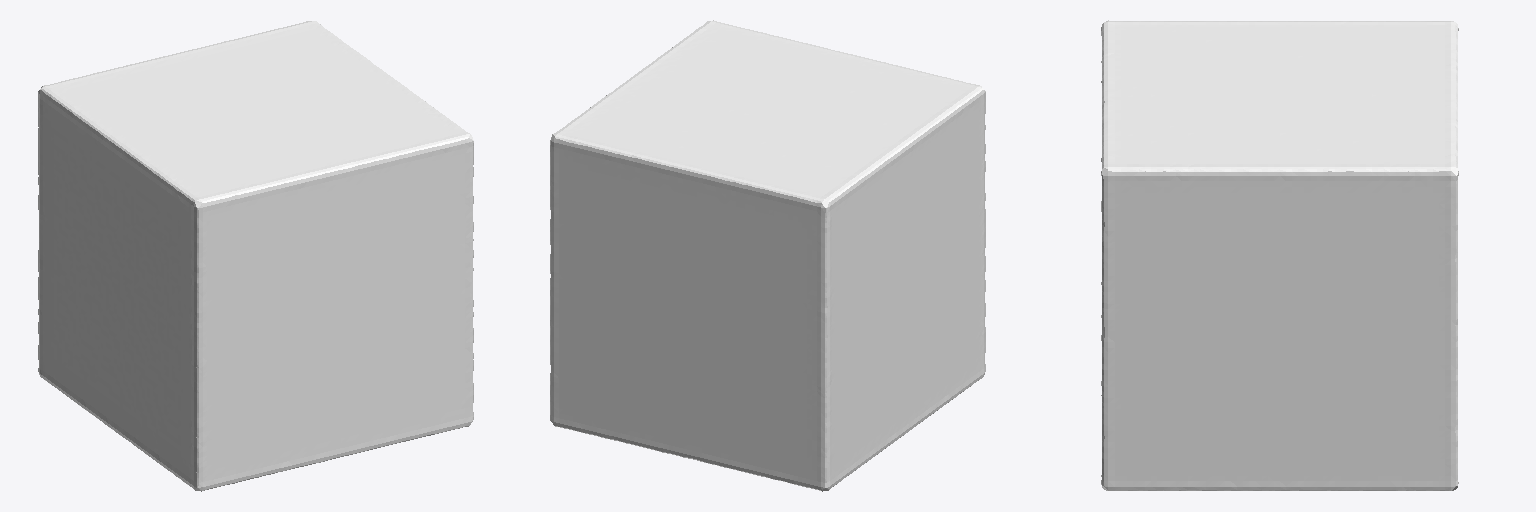
URDF robot description (custom):
<?xml version="1.0"?>
<robot name="custom">
  <material name="Blanc">
    <color rgba="1.0 1.0 1.0 1.0"/>
  </material>
  <link name="base_link">
    <visual>
      <origin xyz="0 0 0" rpy="0 0 0"/>
      <geometry>
        <mesh filename="handoff_cube_medium.obj" scale="1 1 1"/>
      </geometry>
      <material name="Blanc"/>
    </visual>
    <collision>
      <origin xyz="0 0 0" rpy="0 0 0"/>
      <geometry>
	 	     <mesh filename="handoff_cube_medium.obj" scale="1 1 1"/>
      </geometry>
    </collision>
    <contact>
      <lateral_friction value="5.0"/>
      <rolling_friction value="0.0001"/>
      <inertia_scaling value="3.0"/>
    </contact>
    <inertial>
      <origin rpy="0 0 0" xyz="0 0 0"/>
       <mass value="0.05"/>
       <inertia ixx="1" ixy="0" ixz="0" iyy="1" iyz="0" izz="1"/>
    </inertial>
  </link>

</robot>

--- Facts derived from the render (not from the file) ---
3 views of the same robot in one strip: view 1: azimuth 30°, elevation 25°; view 2: azimuth 150°, elevation 25°; view 3: azimuth 270°, elevation 25° (orthographic).
Model custom with 1 links and 0 joints (none), rooted at base_link, posed all joints at 0.
Visible links, largest first — view 1: base_link; view 2: base_link; view 3: base_link.
Link boxes in pixels (x1=…): base_link: x1=38, y1=21, x2=473, y2=491; base_link: x1=550, y1=20, x2=985, y2=491; base_link: x1=1101, y1=20, x2=1458, y2=490.
Size in the robot's own frame: 0.08 by 0.0799 by 0.08 metres.
1 mesh visuals loaded from 1 distinct referenced files (1 OBJ).
